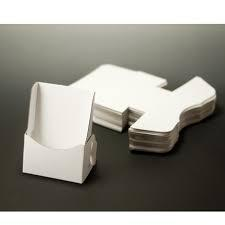Cardboard: (15, 41, 225, 186)
